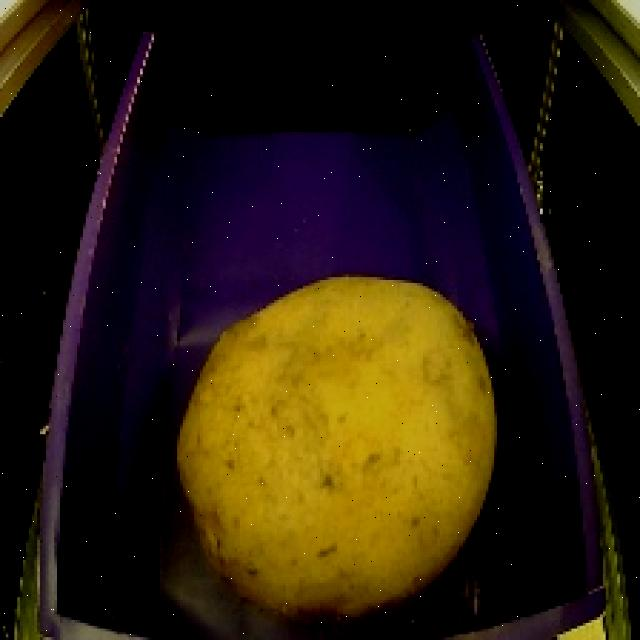full_potato: (167, 263, 510, 634)
